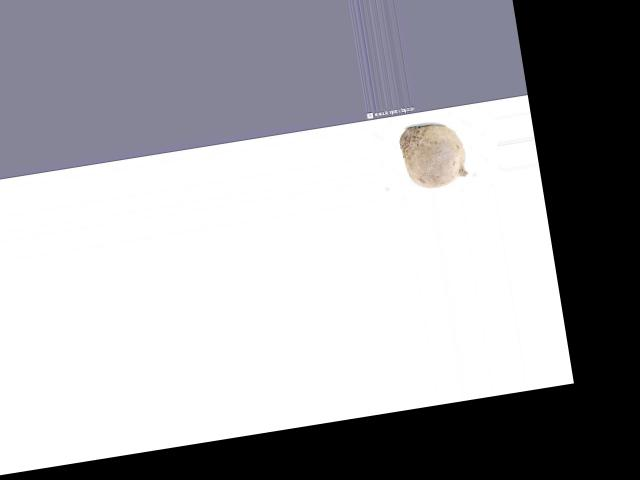beet: (398, 118, 470, 191)
